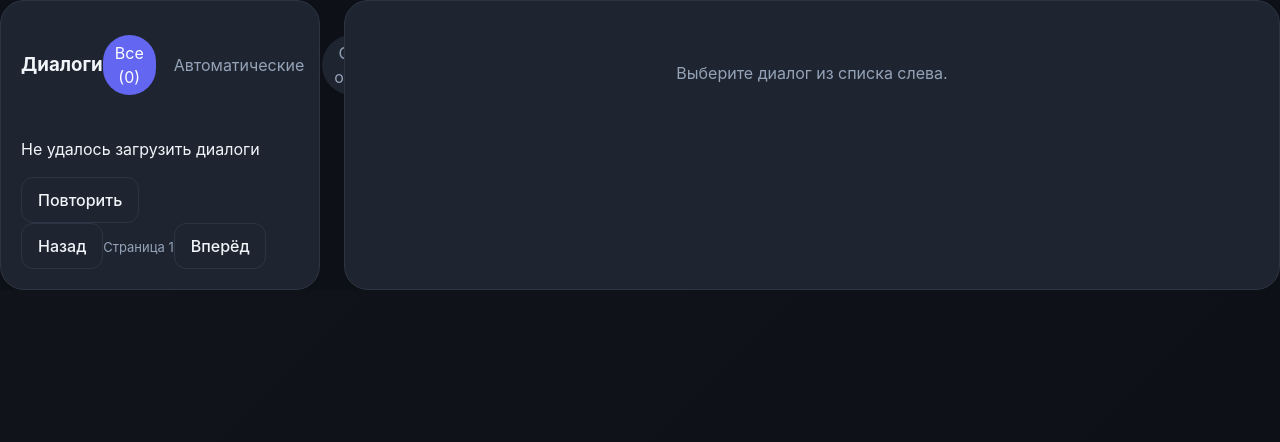
Test: DialogsView › shows list error and retries loading
Expected: the text "Не удалось загрузить диалоги" is shown, [21,137,299,161]
Click the button "Повторить". click: point(80, 200)
box: [21,177,139,223]
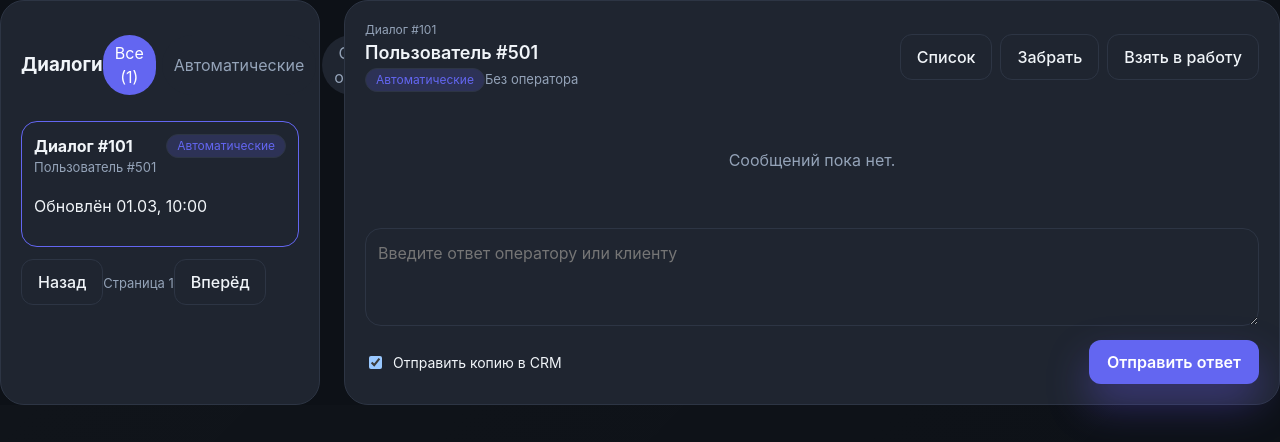
Result: the text "Не удалось загрузить диалоги" is gone
Result: the button "Диалог #101" is shown at [21,121,299,246]
